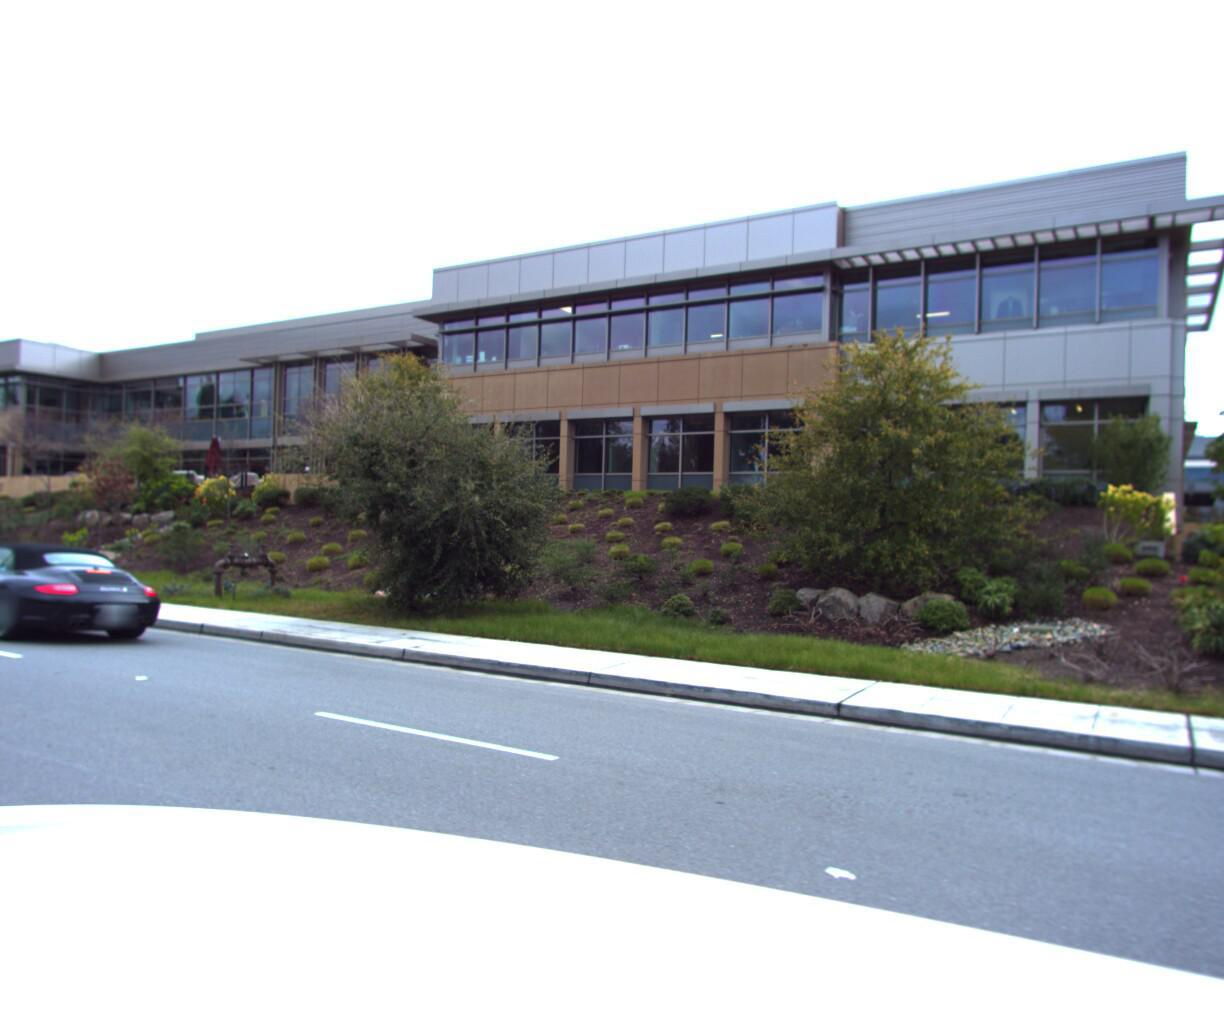car: (0, 546, 168, 666)
